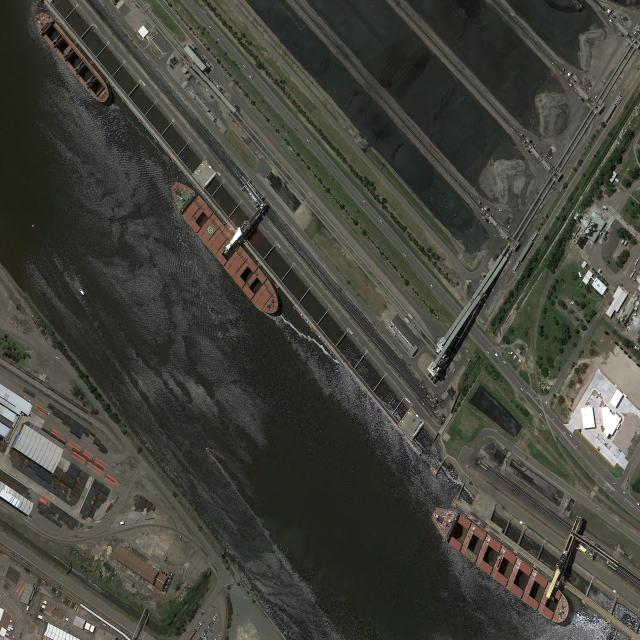ship: (430, 506, 569, 624), (170, 181, 278, 315), (34, 10, 110, 104), (79, 288, 85, 296)
